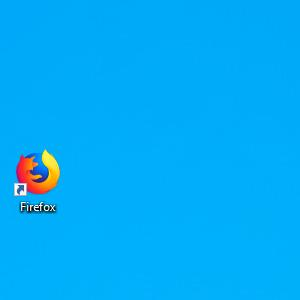firefox: (14, 149, 61, 196)
